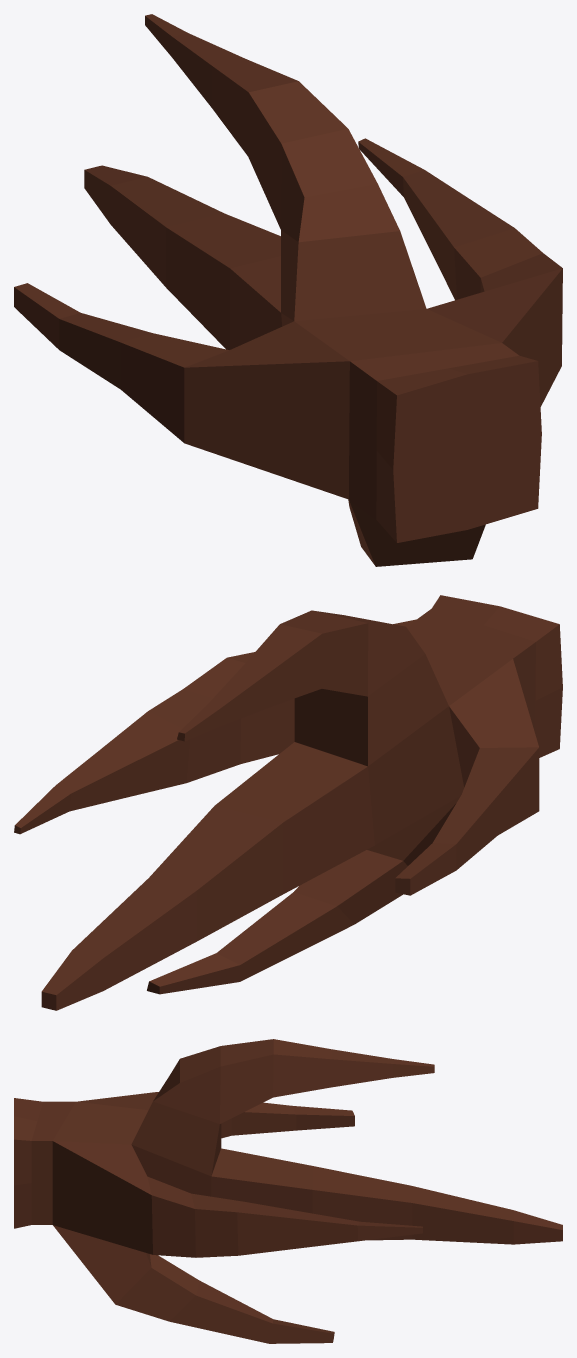
Rendered from DesertBush_2.fbx.
3 views of the same model, one above another, from view 1: azimuth 30°, elevation 25°; view 2: azimuth 150°, elevation 25°; view 3: azimuth 270°, elevation 25° (orthographic). The views are drawn at different scales.
Parts seen in each view (by area): view 1: DesertBush_2; view 2: DesertBush_2; view 3: DesertBush_2.
Part boxes in pixels (x1,y1,x2,y2): DesertBush_2: (14,14,562,566); DesertBush_2: (14,595,562,1010); DesertBush_2: (14,1039,562,1343).
Size of the model in its own units: 210 by 209 by 393.
